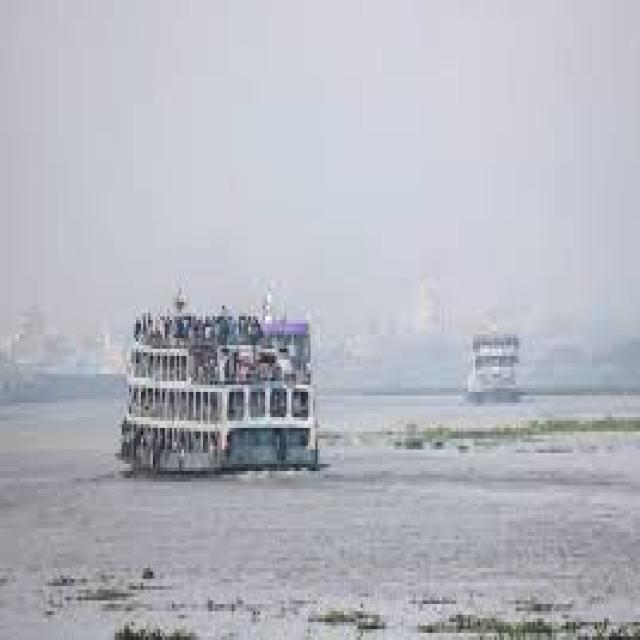passenger ship: (118, 294, 336, 488), (452, 316, 524, 414)
